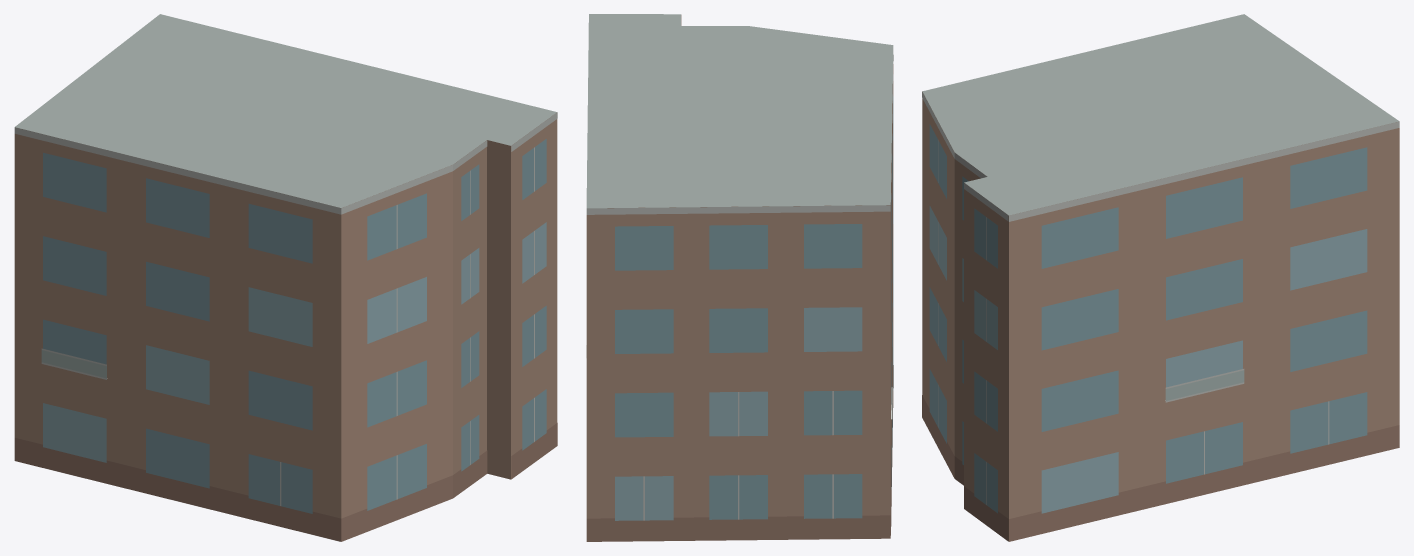
The model's file is survey-upis-32781218.glb.
The picture shows the model from 3 angles, left to right: view 1: azimuth 30°, elevation 25°; view 2: azimuth 150°, elevation 25°; view 3: azimuth 270°, elevation 25°; orthographic projection. The views are drawn at different scales.
Visible parts, largest first — view 1: survey-upis-32781218.tmp; view 2: survey-upis-32781218.tmp; view 3: survey-upis-32781218.tmp.
Part boxes in pixels (left/top/right/bottom): survey-upis-32781218.tmp: left=14, top=14, right=557, bottom=541; survey-upis-32781218.tmp: left=586, top=14, right=893, bottom=541; survey-upis-32781218.tmp: left=922, top=14, right=1399, bottom=541.
Size of the model in its own units: 16.43 by 12.4 by 16.45.
